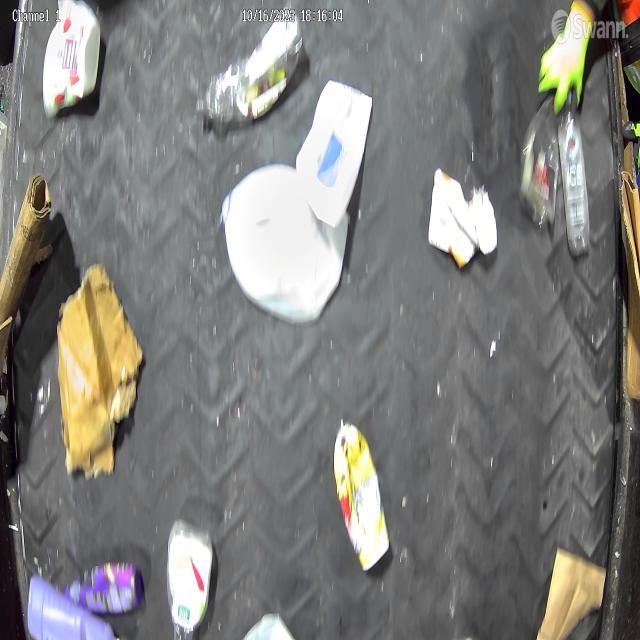can: (334, 420, 391, 573)
milk_jug: (222, 165, 350, 324), (294, 78, 374, 227)
non_white_jug: (27, 577, 119, 640)
plastic_bottle: (196, 19, 302, 131), (558, 106, 592, 257), (518, 111, 556, 228)
